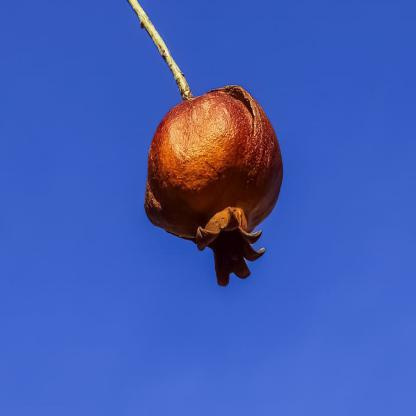pomegranate_rotten: (142, 85, 286, 288)
